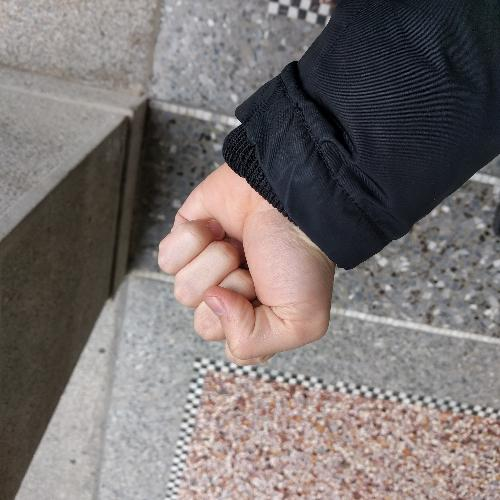rock: (152, 151, 347, 374)
